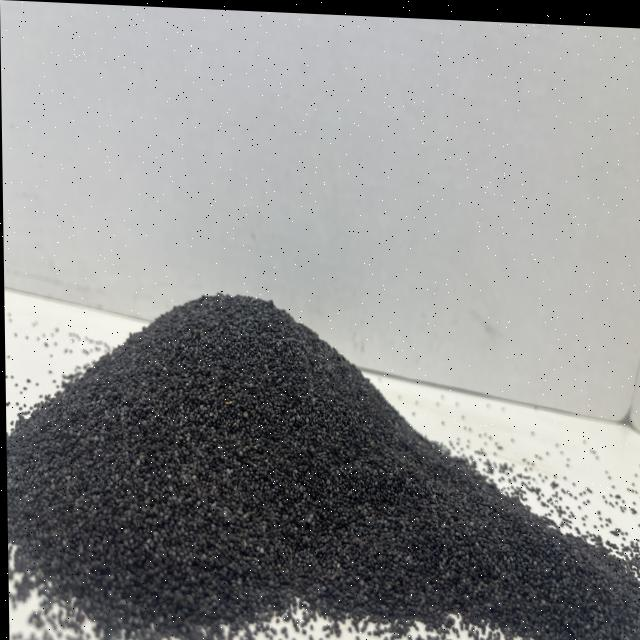Poppy Seeds: (10, 266, 580, 640)
